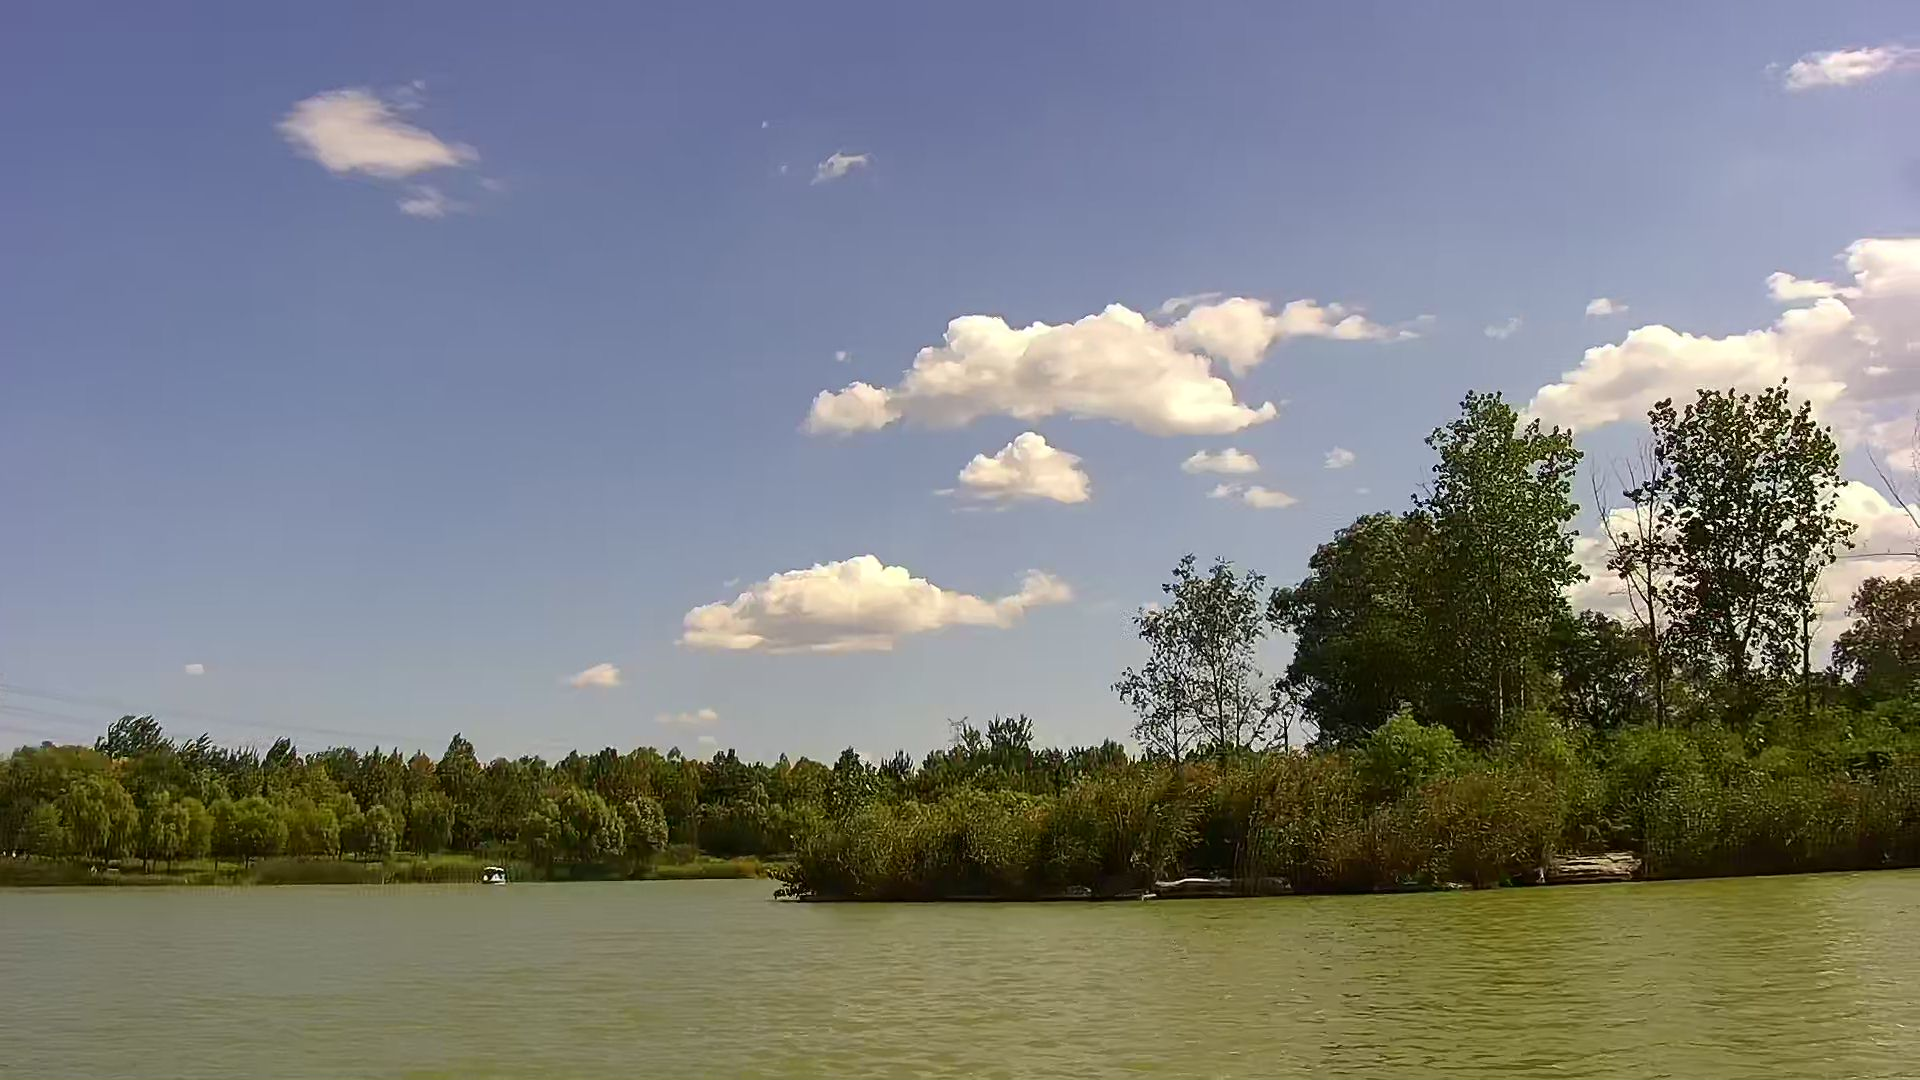boat: (477, 862, 510, 885)
